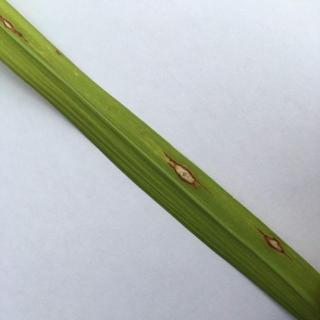Blast: (154, 144, 212, 194), (248, 219, 293, 261), (2, 16, 35, 45)
